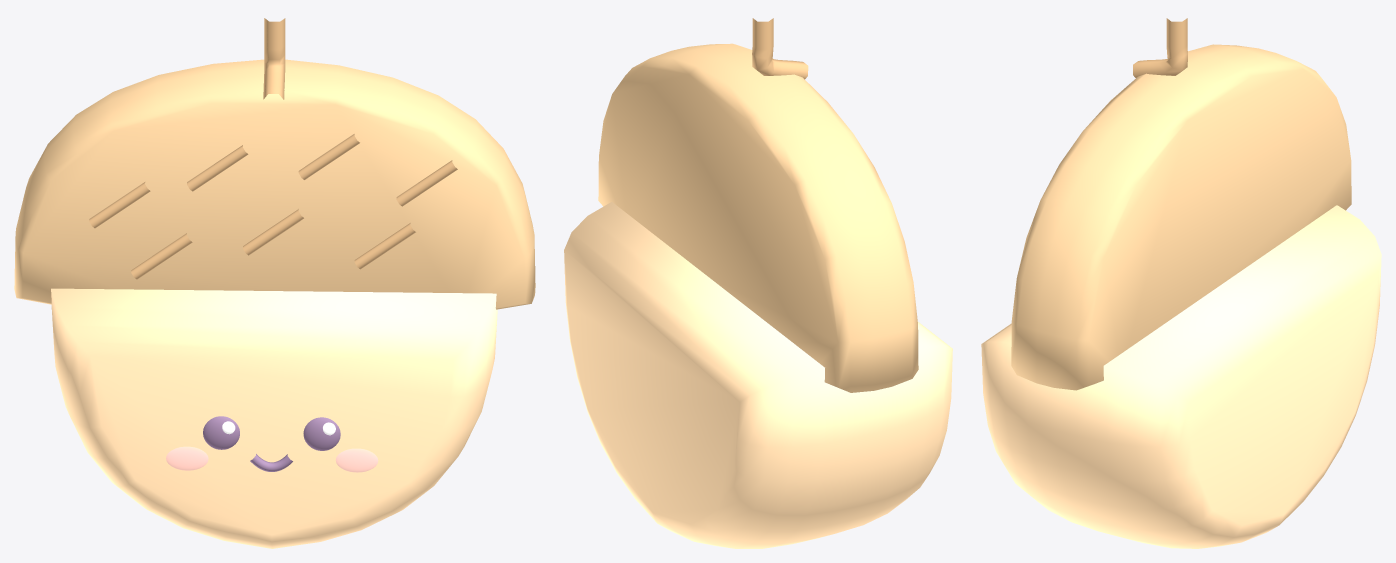
The model's file is life_acorn.glb.
The picture shows the model from 3 angles, left to right: view 1: azimuth 30°, elevation 25°; view 2: azimuth 150°, elevation 25°; view 3: azimuth 270°, elevation 25°; orthographic projection.
Parts seen in each view (by area): view 1: wrap_acorn_1, object 3, object 1; view 2: wrap_acorn_1; view 3: wrap_acorn_1.
Part boxes in pixels (x1,y1,x2,y2): wrap_acorn_1: (14, 18, 535, 548); object 3: (303, 417, 340, 450); object 1: (203, 416, 239, 449); wrap_acorn_1: (564, 18, 952, 548); wrap_acorn_1: (981, 18, 1381, 548).
Size of the model in its own units: 1.38 by 1.62 by 1.16.
